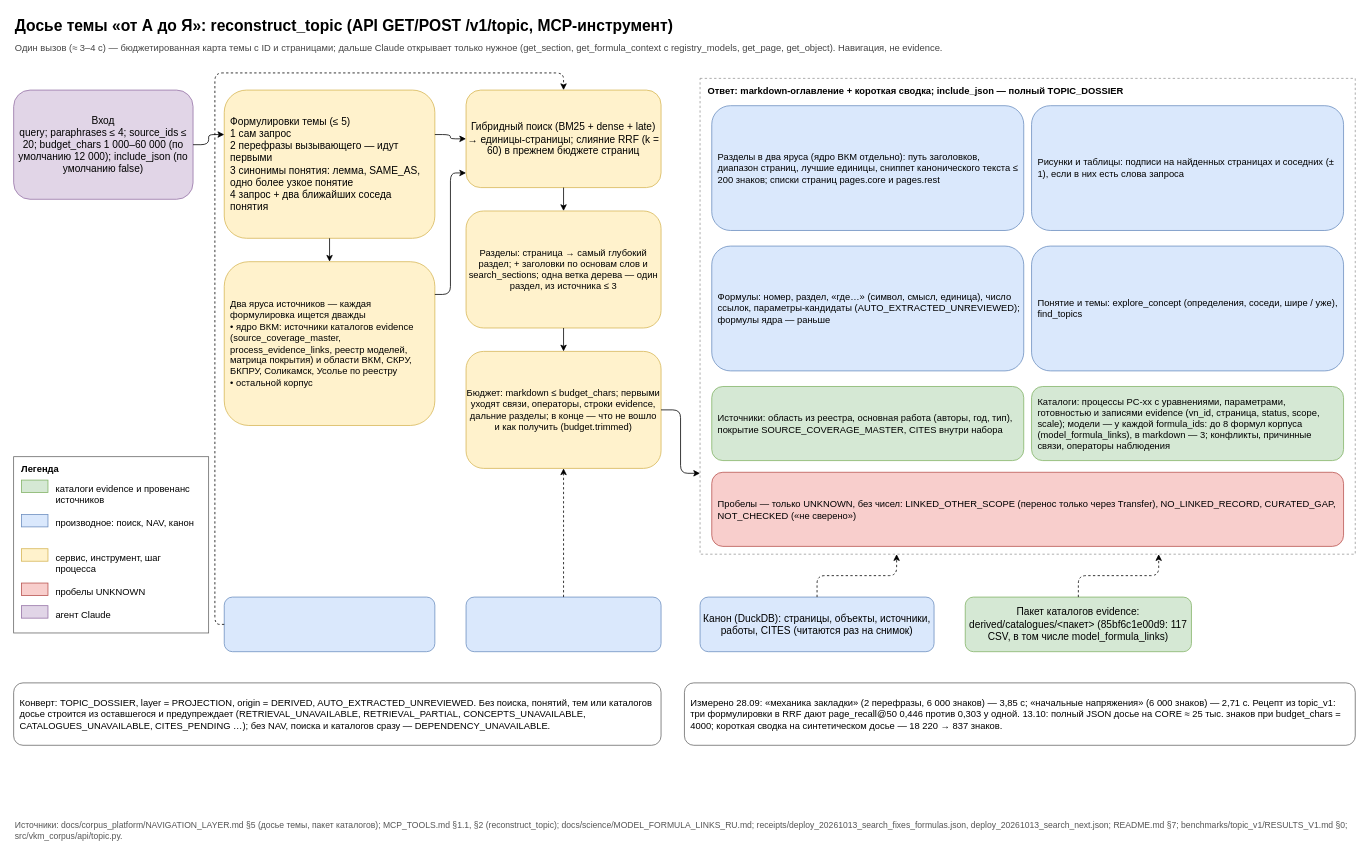
The diagram is 1369 pixels wide and 860 high, and some of its shapes have lost their labels. Here are the shapes that lost their labels. From the top down, the centre of each, then its label:
the point at 329,624: Поиск: OpenSearch (BM25, kNN dense), rx580-retrieval (late)
the point at 563,624: NavStore: nav.duckdb — разделы, формулы, параметры, понятия, темы
